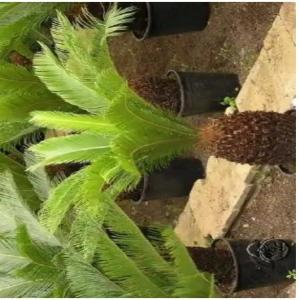palm tree: (0, 2, 222, 298)
